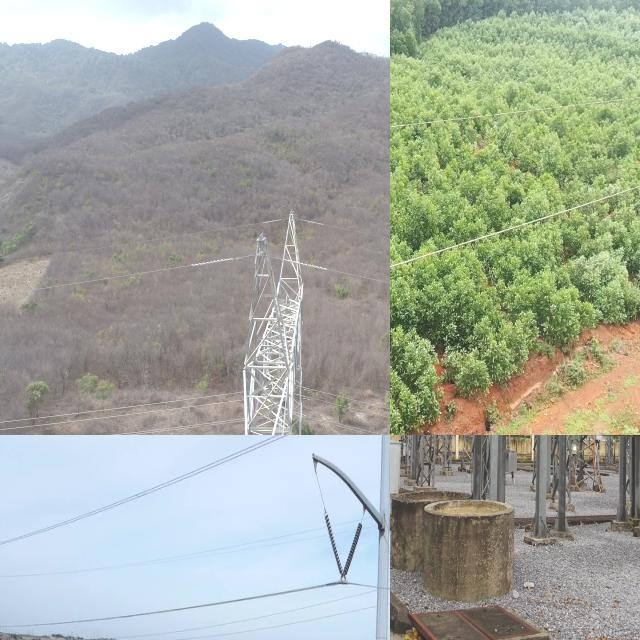杆塔: (228, 194, 321, 435)
正常电缆: (390, 172, 640, 276), (90, 435, 304, 527), (74, 572, 331, 634)
正常绝缘子: (318, 515, 368, 588)
